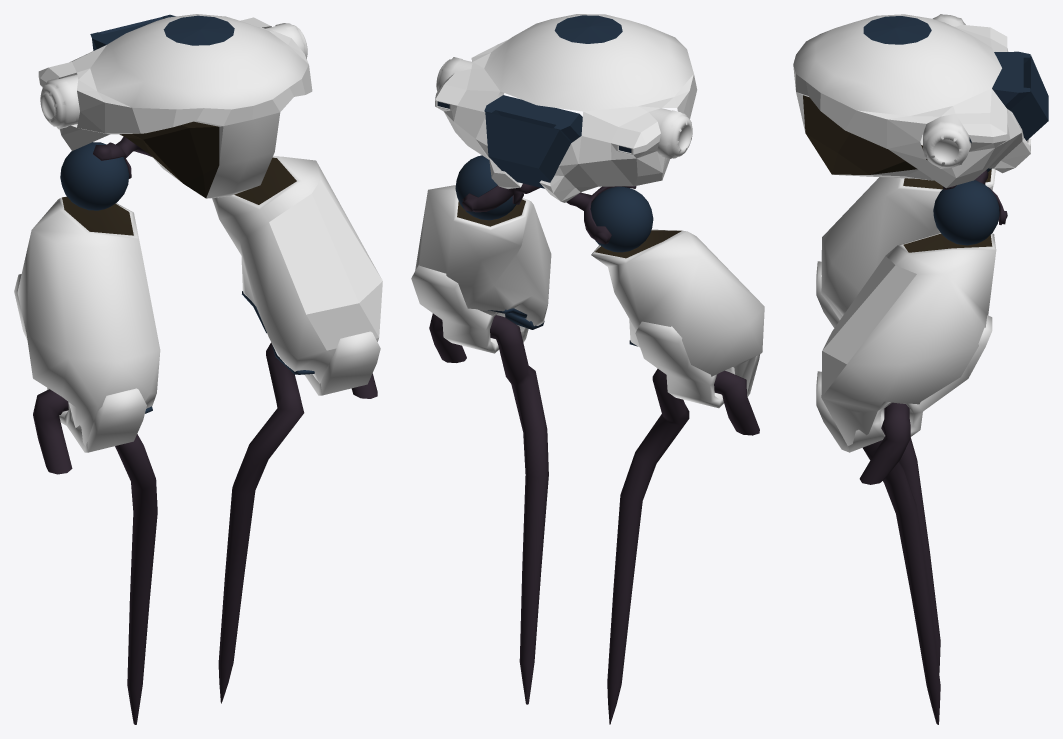
The model's file is robofull cleaned up.fbx.
The picture shows the model from 3 angles, left to right: view 1: azimuth 30°, elevation 25°; view 2: azimuth 150°, elevation 25°; view 3: azimuth 270°, elevation 25°; orthographic projection. The views are drawn at different scales.
Parts seen in each view (by area): view 1: hips and legs; view 2: hips and legs; view 3: hips and legs.
Part boxes in pixels (x1,y1,x2,y2): hips and legs: (14, 14, 382, 724); hips and legs: (411, 14, 764, 724); hips and legs: (793, 14, 1048, 724).
Size of the model in its own units: 131 by 253 by 86.59.
